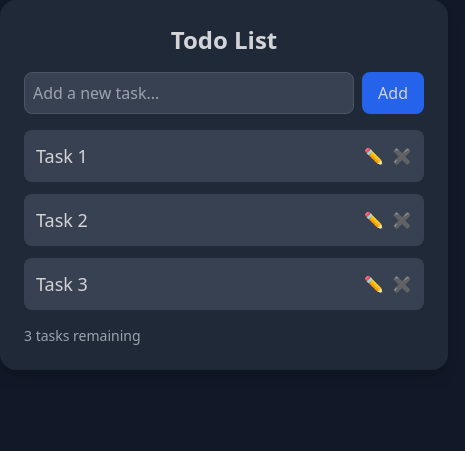
Scenario: add task is working and is rendered
expect the text "Task 1" is shown: met, box [36,142,88,170]
expect the text "Task 2" is shown: met, box [36,206,88,234]
Type "New task" into the field with placeholder "Add a new task..." at (189,93), box [24,72,354,114]
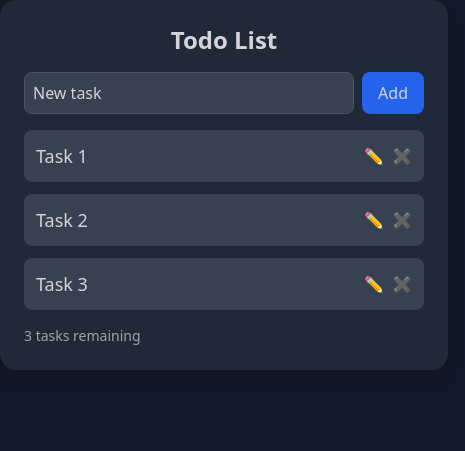
Click the button with test id "add-task-button" at (393,93), box [362,72,424,114]
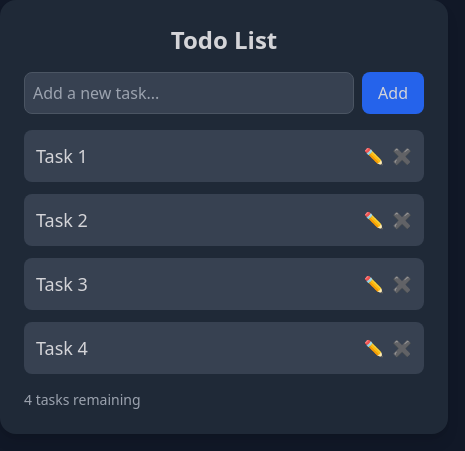
expect the text "Task 4" is shown: met, box [36,334,88,362]
